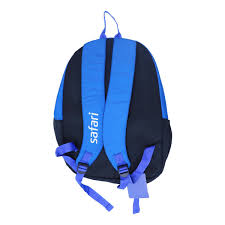backpack: (52, 10, 172, 213)
